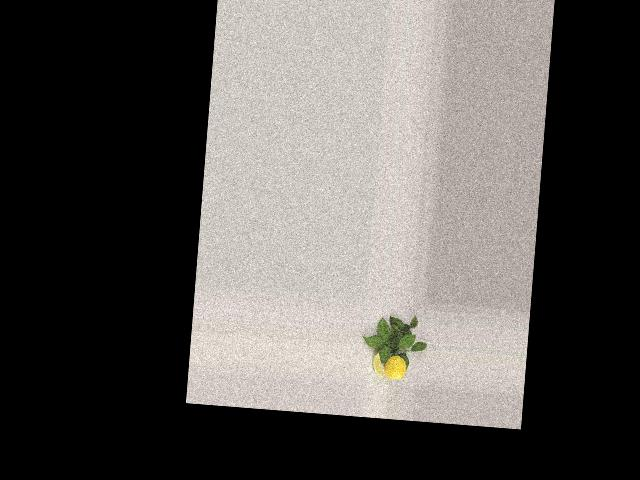lemon: (385, 352, 408, 380)
